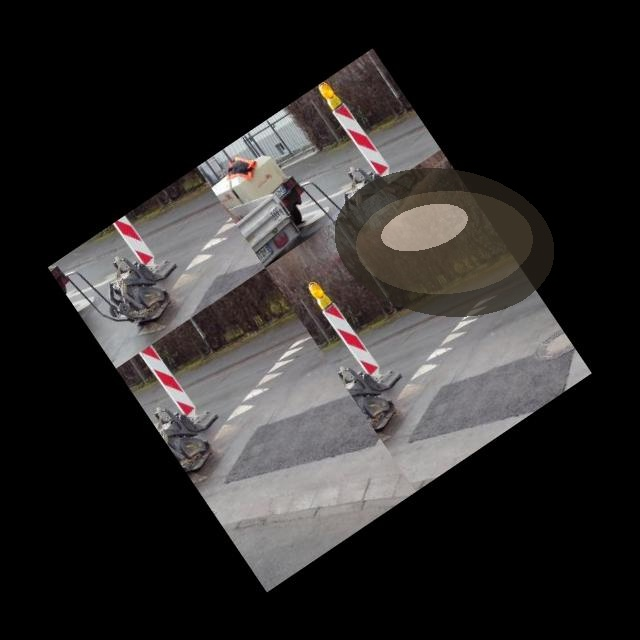waterlogging: (324, 159, 564, 325)
